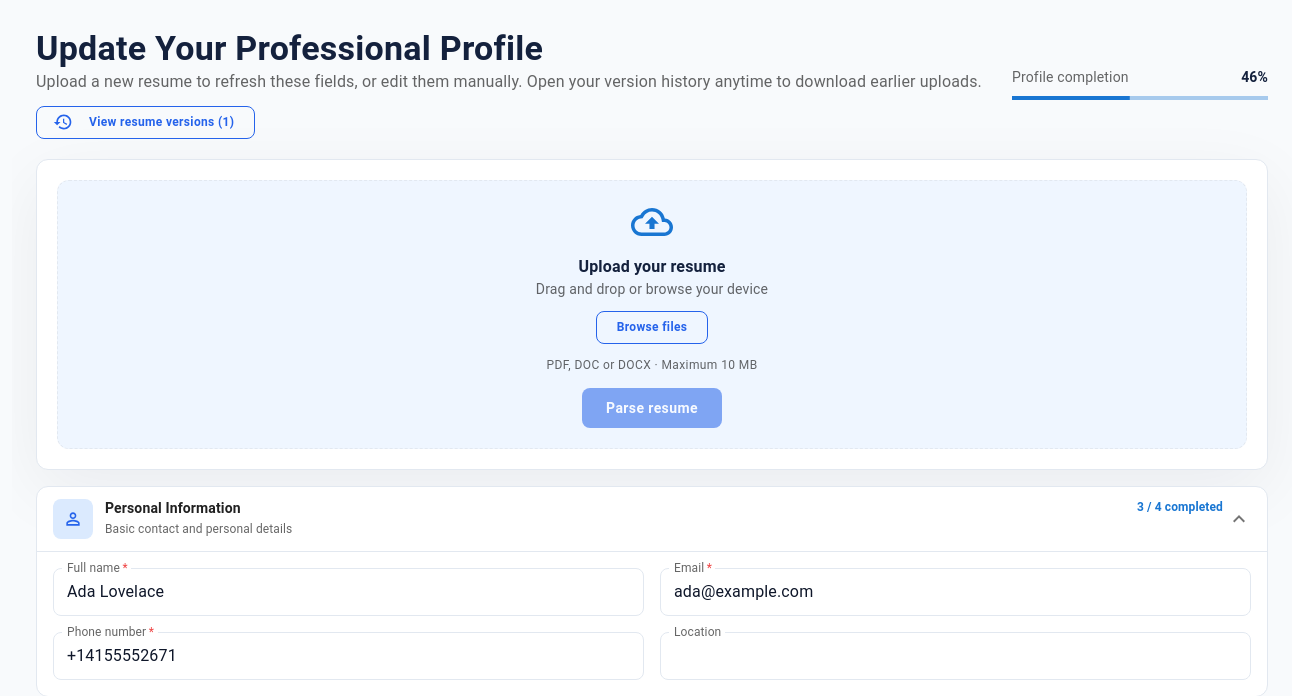
Test case: EditProfilePage › enables Save Changes after editing a blank field
expect the field labelled "Full name *" is shown: met, box [53, 580, 644, 603]
Type "London" into the field labelled "Location" at (956, 656), box [660, 644, 1251, 667]
(page scrolled)
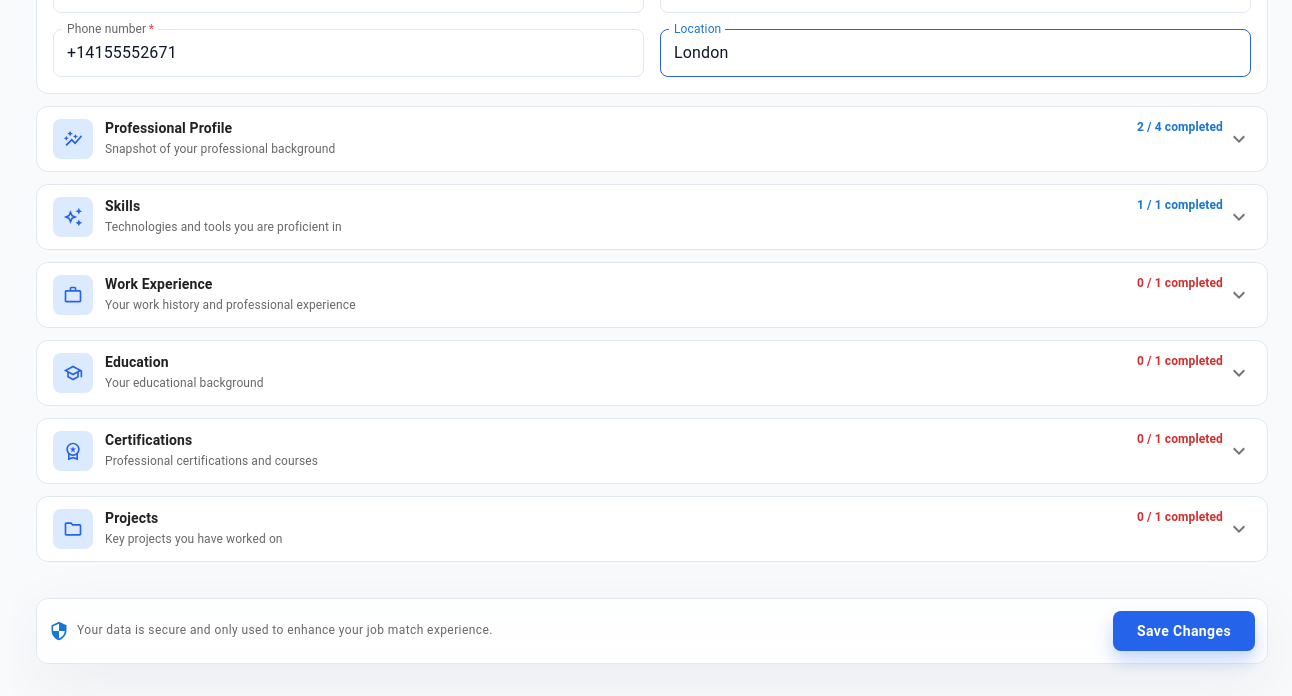
expect the button "Save Changes" is enabled: met, box [1113, 611, 1255, 651]
